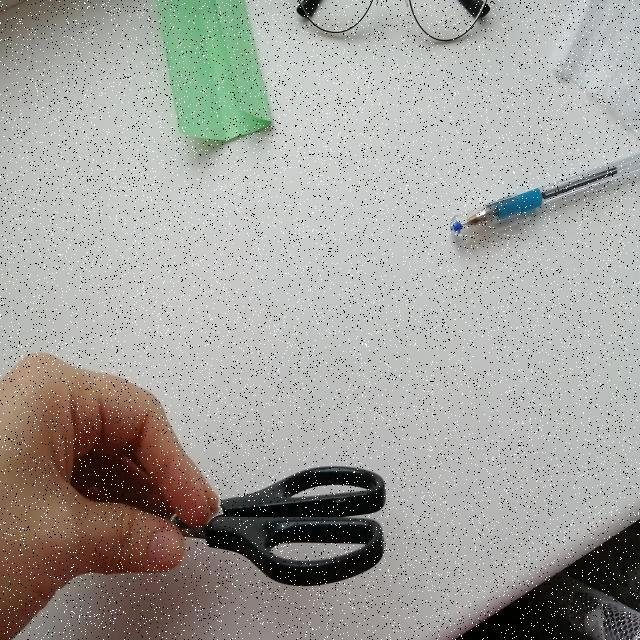scissors: (0, 456, 394, 598)
